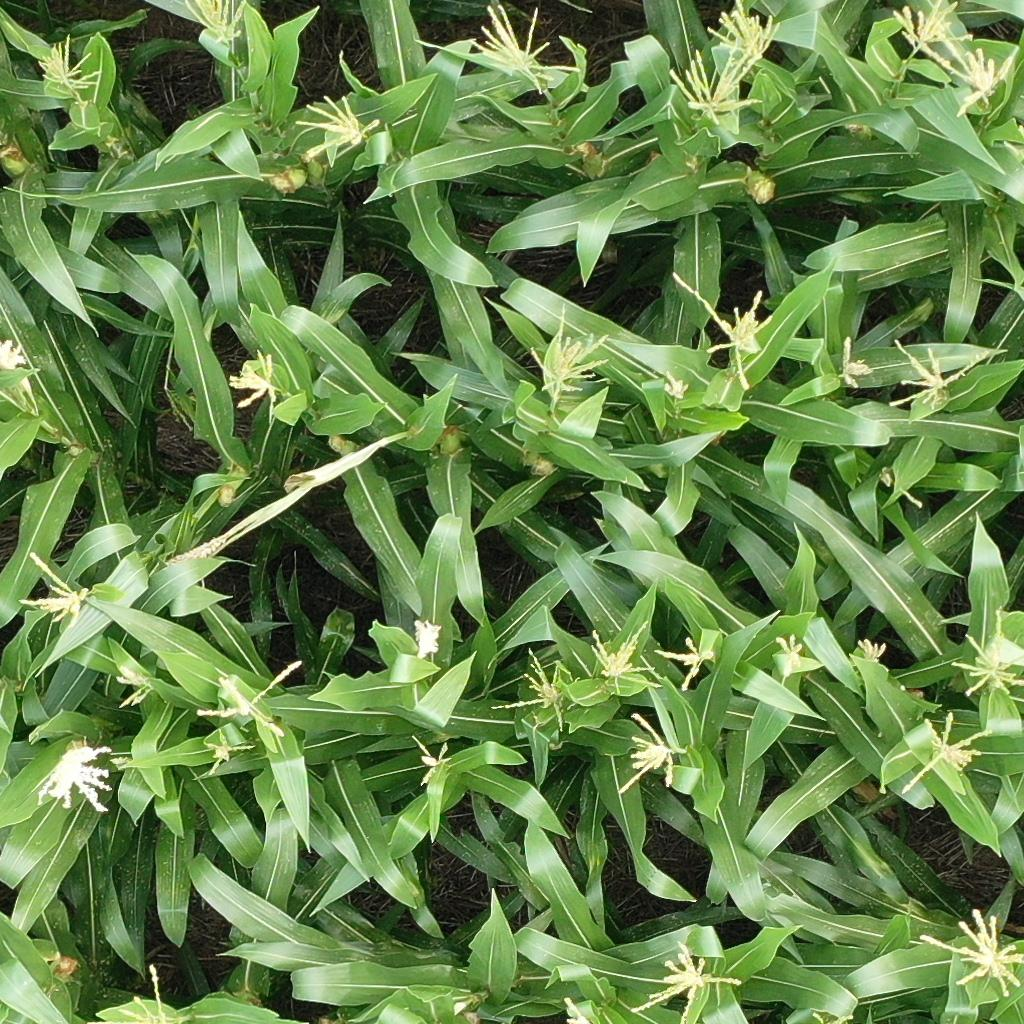Tassel: (673, 271, 777, 393), (468, 1, 587, 91), (625, 939, 745, 1024), (919, 906, 1024, 999), (195, 654, 302, 737), (894, 709, 994, 797), (522, 304, 615, 396), (883, 336, 994, 413), (488, 643, 576, 737), (668, 48, 763, 126), (949, 606, 1024, 701), (13, 549, 89, 636), (614, 710, 693, 791), (88, 959, 186, 1024), (290, 92, 382, 160), (37, 741, 120, 815), (587, 616, 662, 694), (941, 46, 1021, 117), (894, 1, 976, 67), (35, 33, 103, 104), (706, 1, 785, 59), (228, 349, 289, 415), (655, 634, 714, 695), (176, 1, 250, 47), (161, 531, 246, 570), (201, 727, 258, 778), (408, 732, 457, 786), (829, 335, 874, 390), (112, 665, 155, 710), (876, 467, 921, 508), (769, 632, 807, 680), (415, 616, 445, 668), (854, 637, 893, 674), (557, 993, 595, 1024), (1, 338, 32, 375), (661, 368, 688, 403), (811, 1005, 854, 1024)
